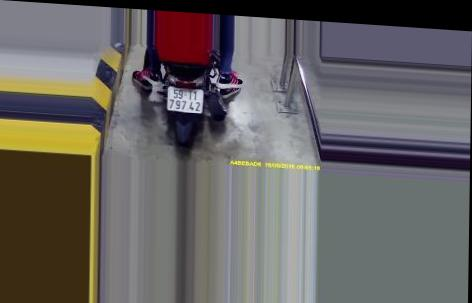License_Plate: (161, 82, 208, 116)
